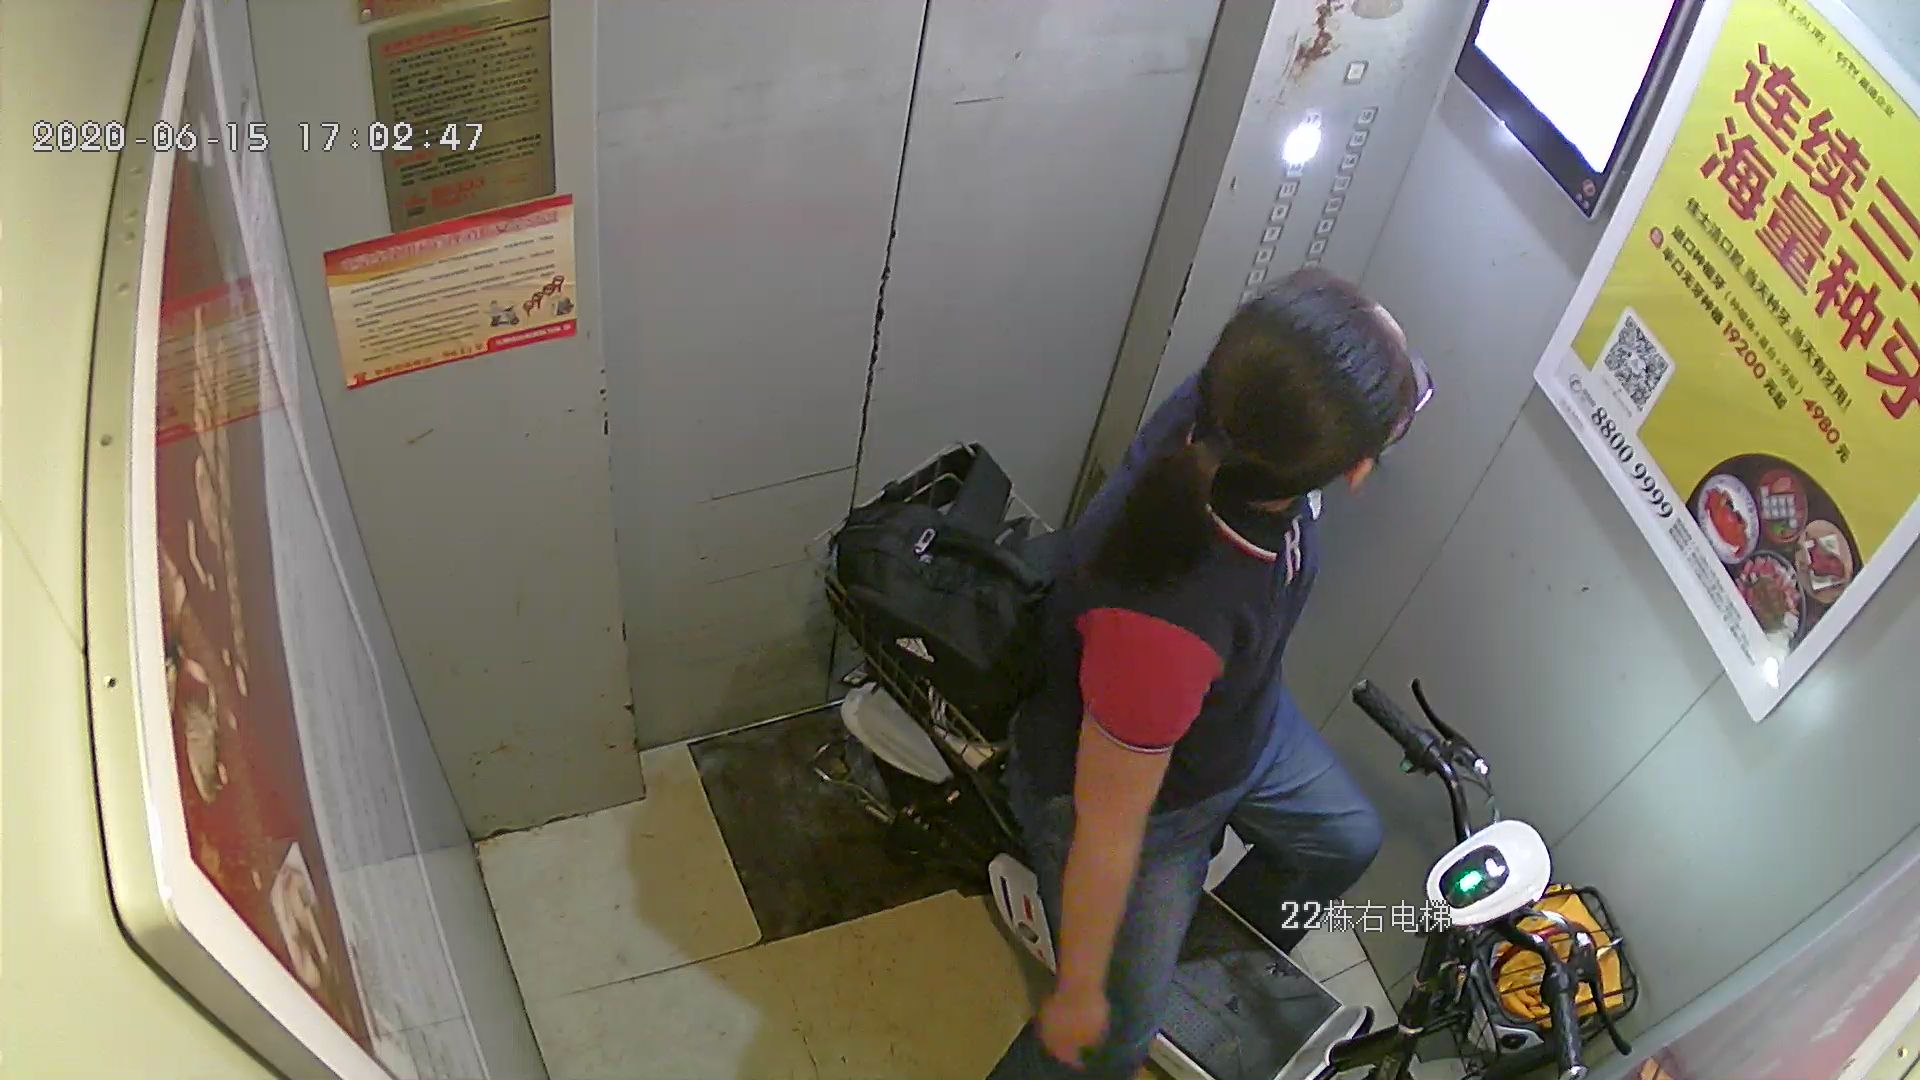Electric-bicycle: (822, 442, 1640, 1069)
